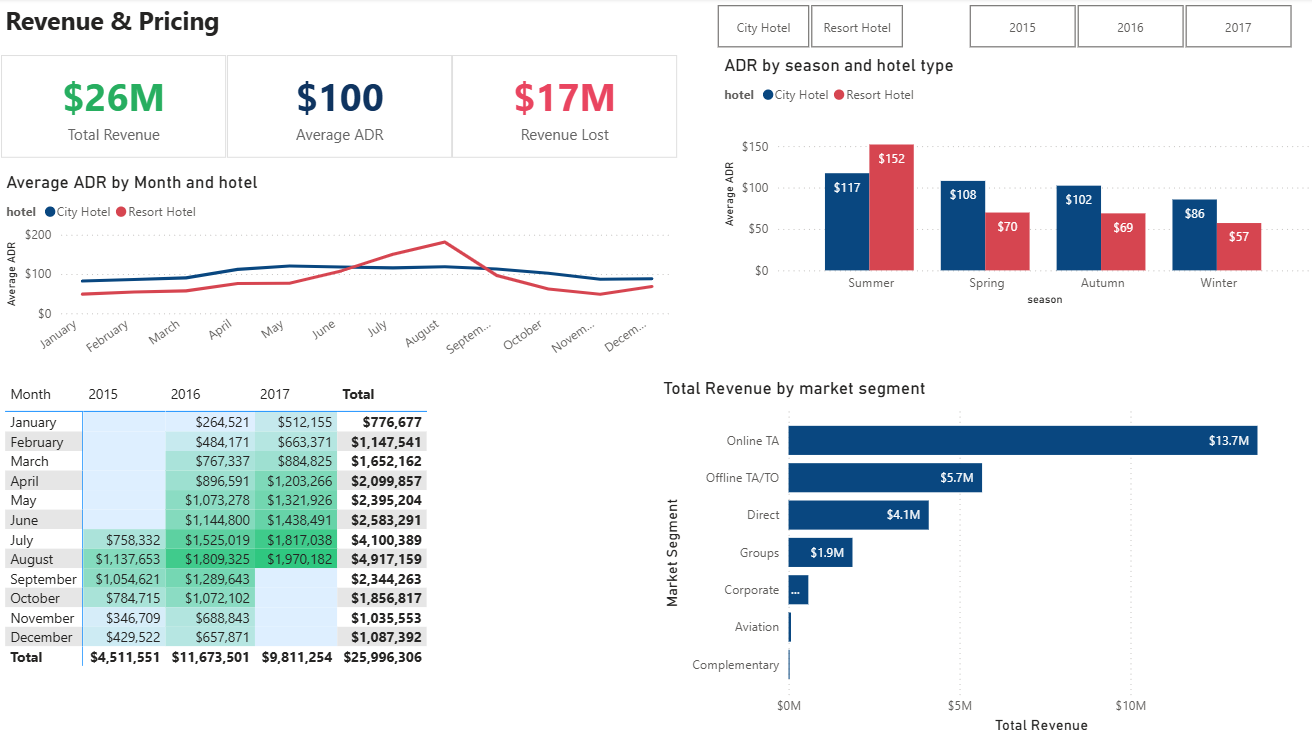

The dashboard page shown, as its layout file describes it:
{"tool":"powerbi","page":{"name":"Revenue & Pricing","canvas":[1280,720],"ordinal":4},"visuals":[{"type":"card","fields":{"Values":["hotel_bookings_clean.Total Revenue"]},"box":[0.9,55.3,219.4,99.7],"z":0},{"type":"card","fields":{"Values":["hotel_bookings_clean.Average ADR"]},"box":[220.4,55.3,219.4,99.7],"z":1000},{"type":"card","fields":{"Values":["hotel_bookings_clean.Revenue Lost"]},"box":[439.8,55.3,219.4,99.7],"z":2000},{"type":"textbox","box":[0,0,220.4,55.3],"z":3000},{"type":"clusteredColumnChart","title":" ADR by season and hotel type","fields":{"Category":["hotel_bookings_clean.season"],"Y":["hotel_bookings_clean.Average ADR"],"Series":["hotel_bookings_clean.hotel"]},"box":[699.1,55.3,581.3,248.5],"z":4000},{"type":"lineChart","fields":{"Category":["DateTable.Month"],"Y":["hotel_bookings_clean.Average ADR"],"Series":["hotel_bookings_clean.hotel"]},"box":[0.9,169.6,658.3,190.4],"z":5000},{"type":"clusteredBarChart","title":"Total Revenue by market segment","fields":{"Category":["hotel_bookings_clean.market_segment"],"Y":["hotel_bookings_clean.Total Revenue"]},"box":[640.2,370,640.2,350],"z":6000},{"type":"pivotTable","fields":{"Rows":["DateTable.Month"],"Columns":["DateTable.Year"],"Values":["hotel_bookings_clean.Total Revenue"]},"box":[0,370,640.2,350],"z":7000},{"type":"slicer","fields":{"Values":["hotel_bookings_clean.hotel"]},"box":[671.9,0,230.3,55.3],"z":8000},{"type":"slicer","fields":{"Values":["DateTable.Year"]},"box":[917.7,0,362.7,55.3],"z":9000}]}

Visuals, with their boxes in screenshot pixels (x1, y1, x2, y2), scaled from the page's 1280x720 canvas onto the 1312x737 screenshot:
card - hotel_bookings_clean.Total Revenue: BBox(1, 57, 226, 159)
card - hotel_bookings_clean.Average ADR: BBox(226, 57, 451, 159)
card - hotel_bookings_clean.Revenue Lost: BBox(451, 57, 676, 159)
textbox: BBox(0, 0, 226, 57)
" ADR by season and hotel type" clusteredColumnChart: BBox(717, 57, 1311, 311)
lineChart - DateTable.Month x hotel_bookings_clean.Average ADR: BBox(1, 174, 676, 368)
"Total Revenue by market segment" clusteredBarChart: BBox(656, 379, 1311, 736)
pivotTable - DateTable.Month x DateTable.Year: BBox(0, 379, 656, 736)
slicer - hotel_bookings_clean.hotel: BBox(689, 0, 925, 57)
slicer - DateTable.Year: BBox(941, 0, 1311, 57)
